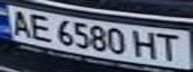0: (106, 25, 130, 56)
5: (69, 20, 90, 51)
6: (51, 17, 75, 47)
8: (87, 24, 109, 53)
A: (3, 7, 36, 38)
E: (24, 12, 54, 43)
H: (130, 28, 163, 61)
T: (154, 30, 187, 62)
